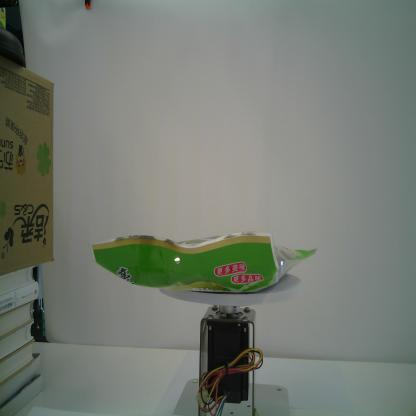Dried Food: (83, 224, 318, 300)
